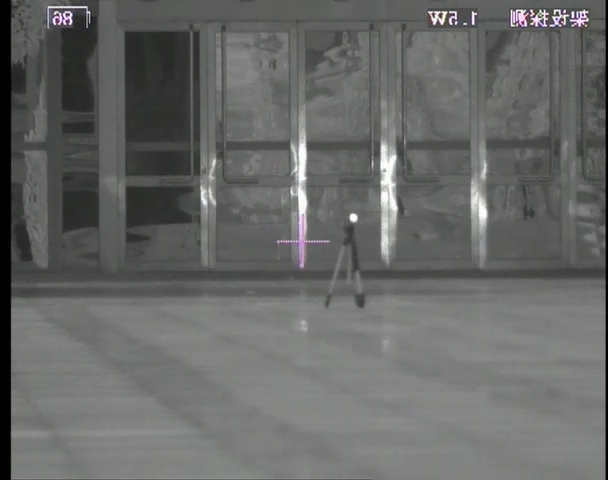my: (348, 212, 359, 224)
